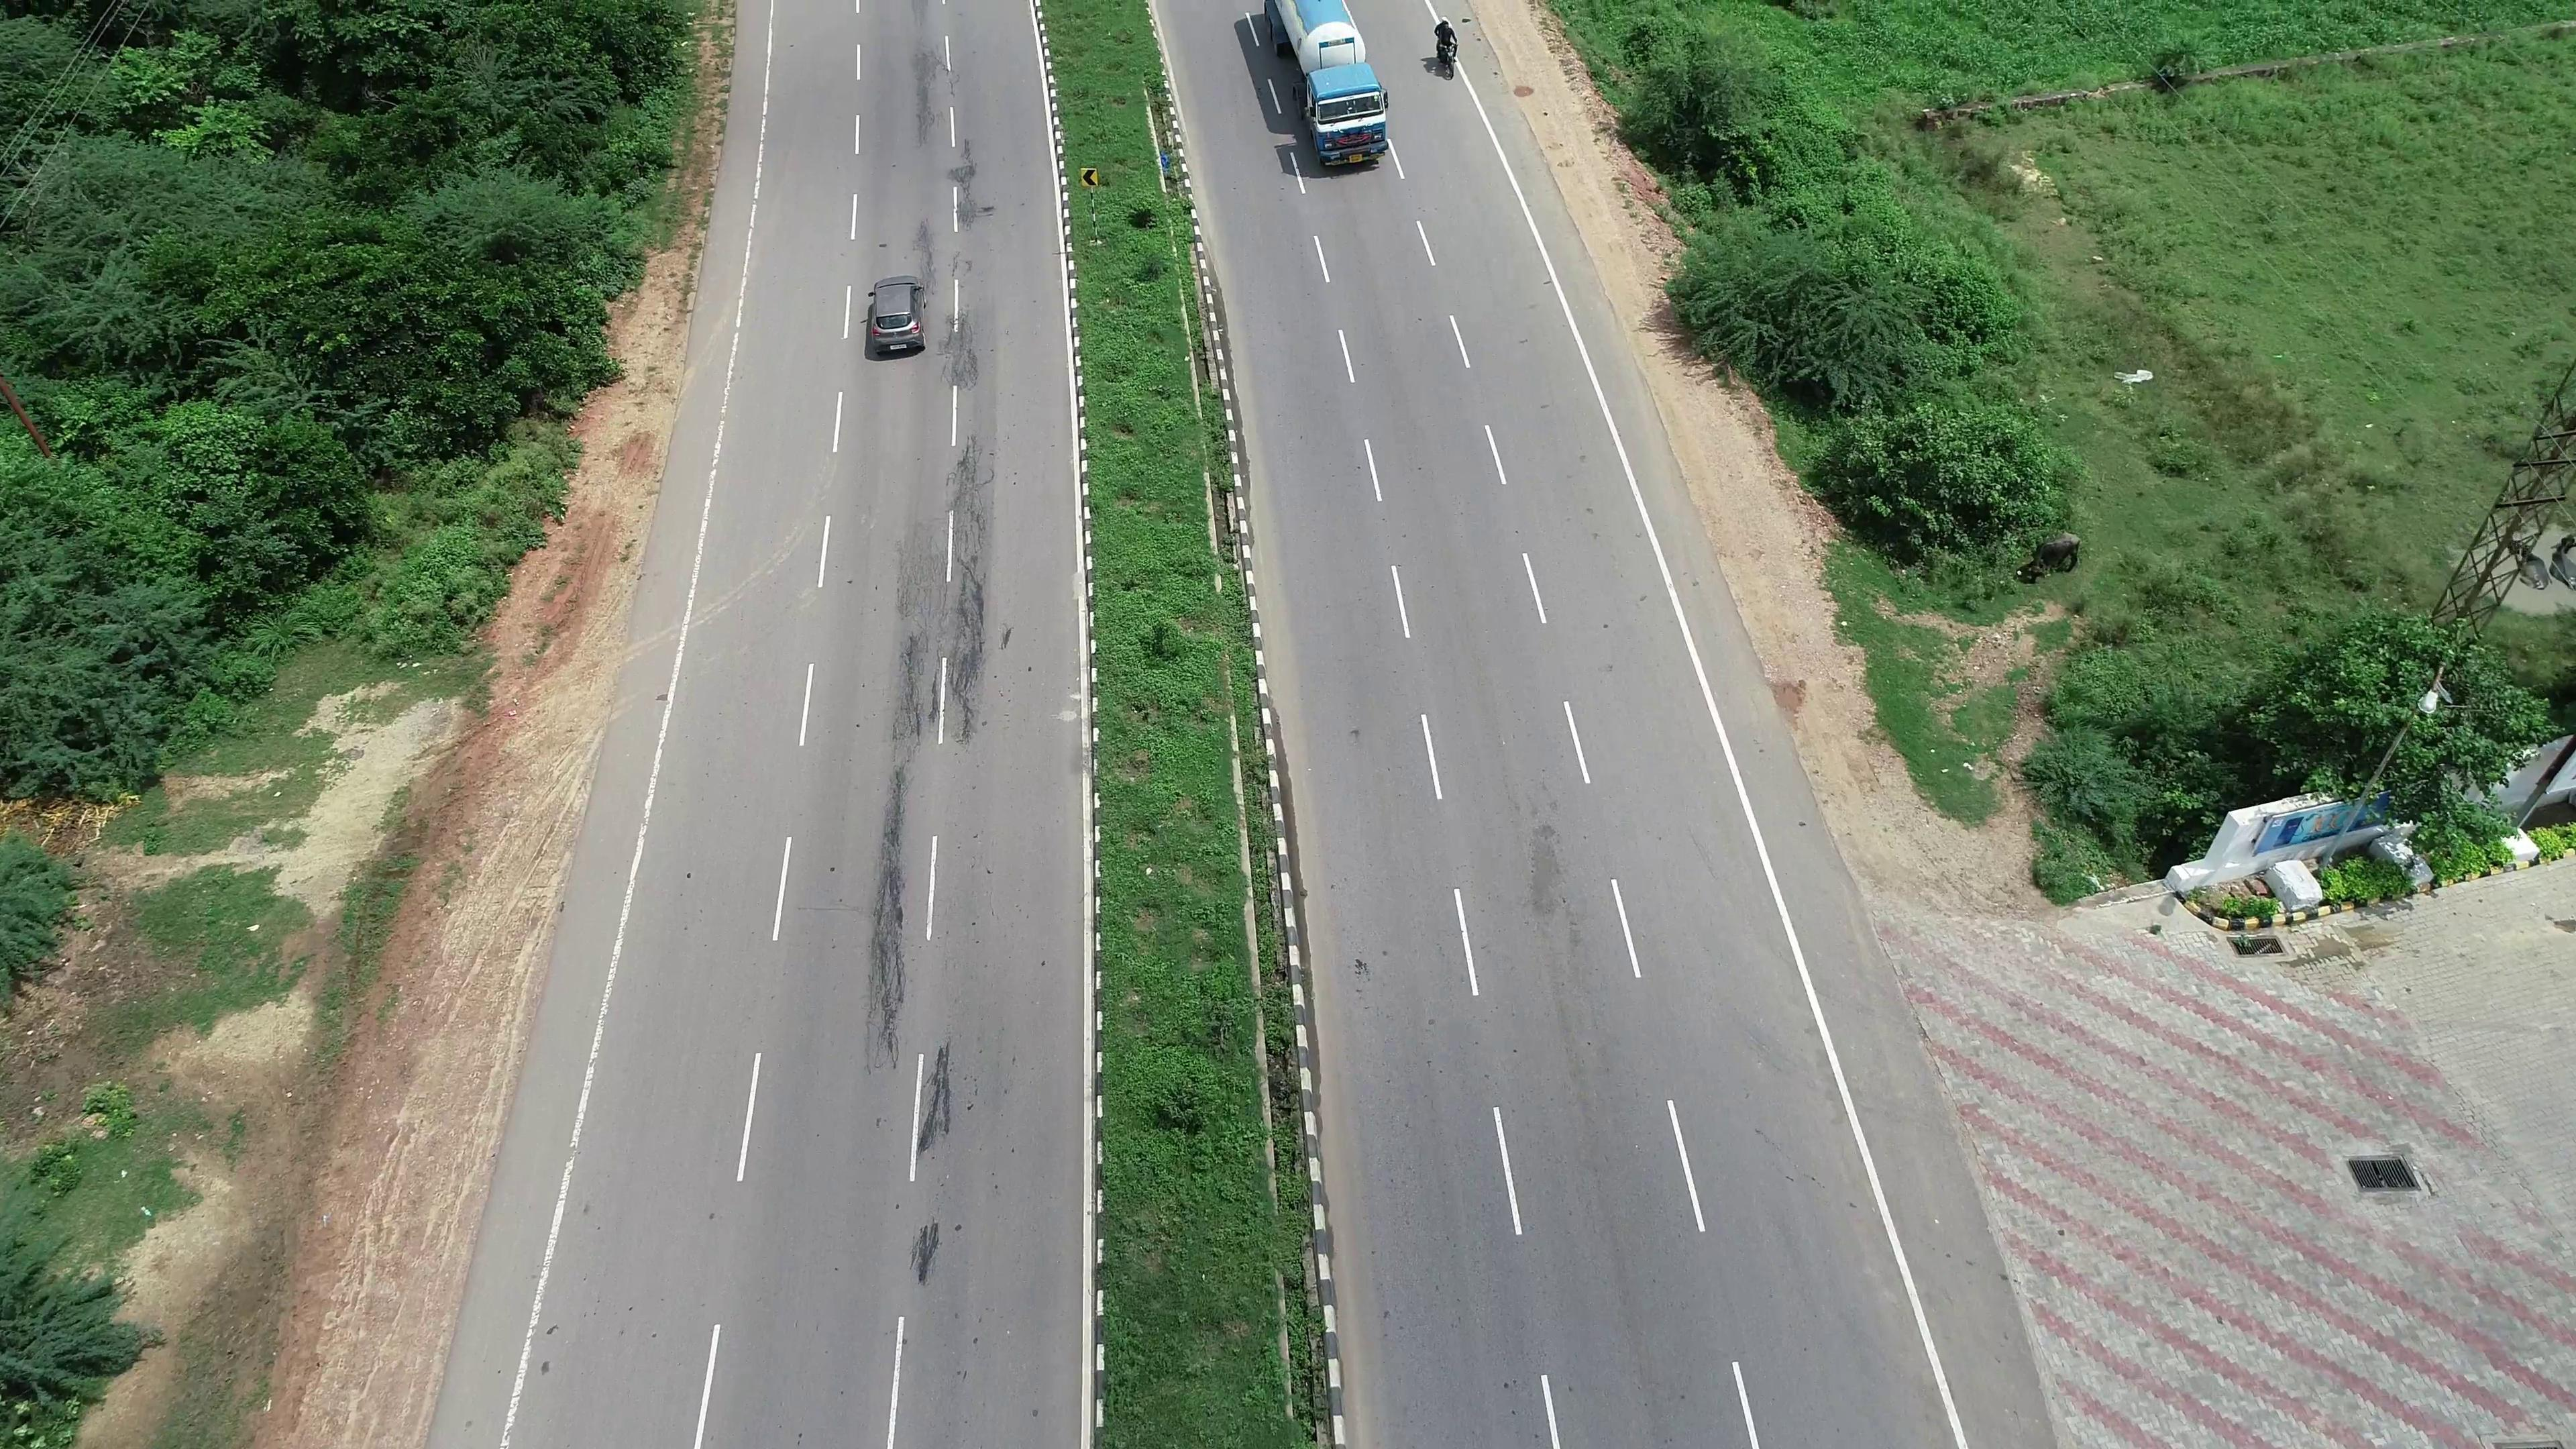Alligator_cracks: (885, 449, 994, 724), (855, 766, 918, 1065), (904, 1021, 968, 1279), (904, 32, 941, 156), (941, 136, 978, 248), (936, 306, 977, 377)
